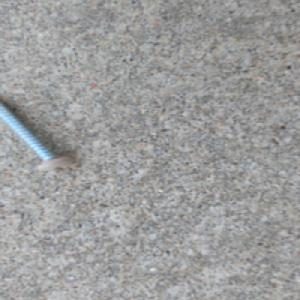Screw: (0, 95, 75, 173)
